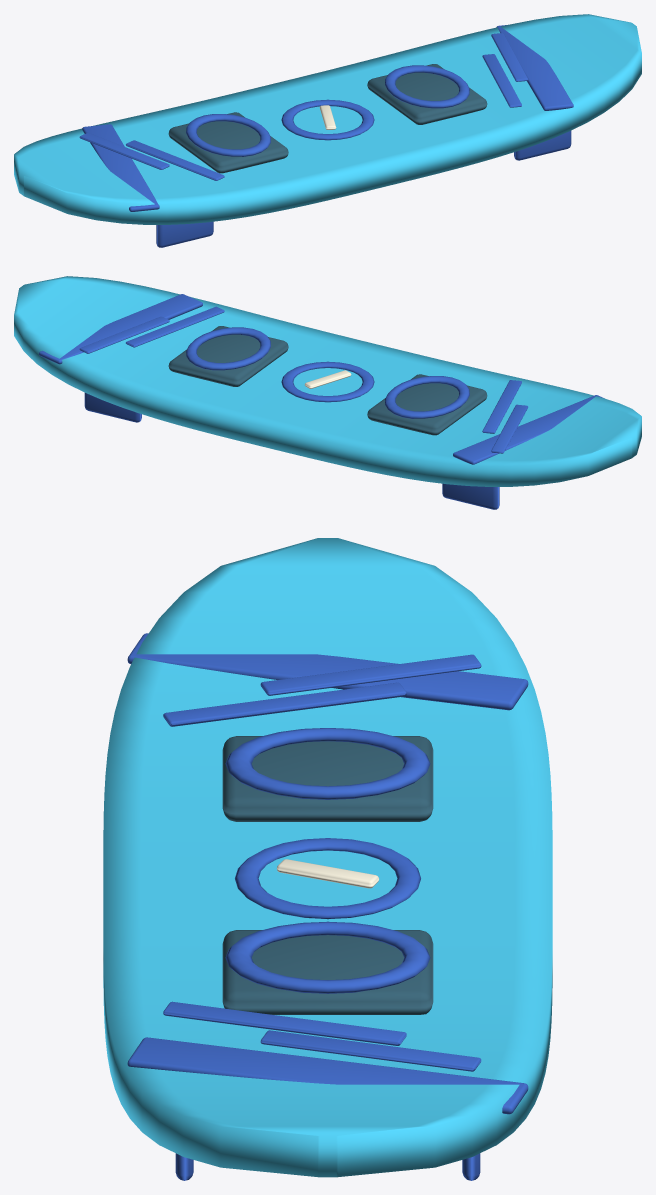
Rendered from board-tidal.glb.
3 views of the same model, one above another, from view 1: azimuth 30°, elevation 25°; view 2: azimuth 150°, elevation 25°; view 3: azimuth 270°, elevation 25° (orthographic). The views are drawn at different scales.
Visible parts, largest first — view 1: Board_tidal; view 2: Board_tidal; view 3: Board_tidal.
Part boxes in pixels (left/top/right/bottom): Board_tidal: left=14, top=14, right=641, bottom=247; Board_tidal: left=14, top=276, right=641, bottom=509; Board_tidal: left=103, top=538, right=552, bottom=1180.
Size of the model in its own units: 2.96 by 0.335 by 0.94.
